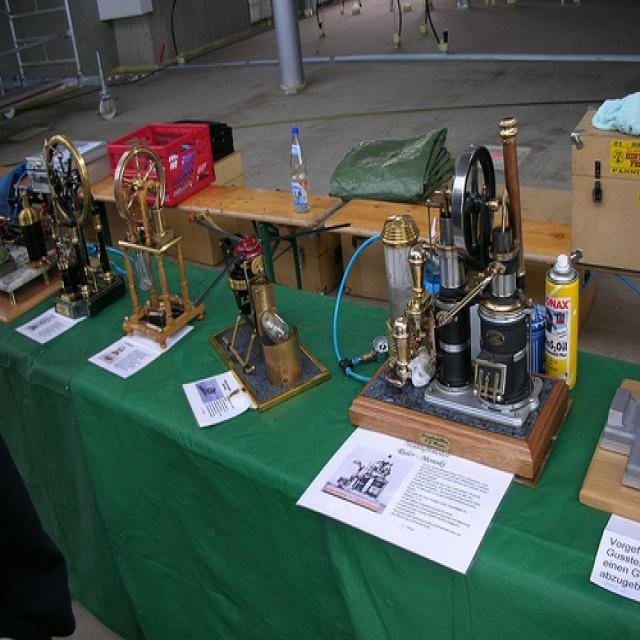bottle: (288, 123, 312, 215)
